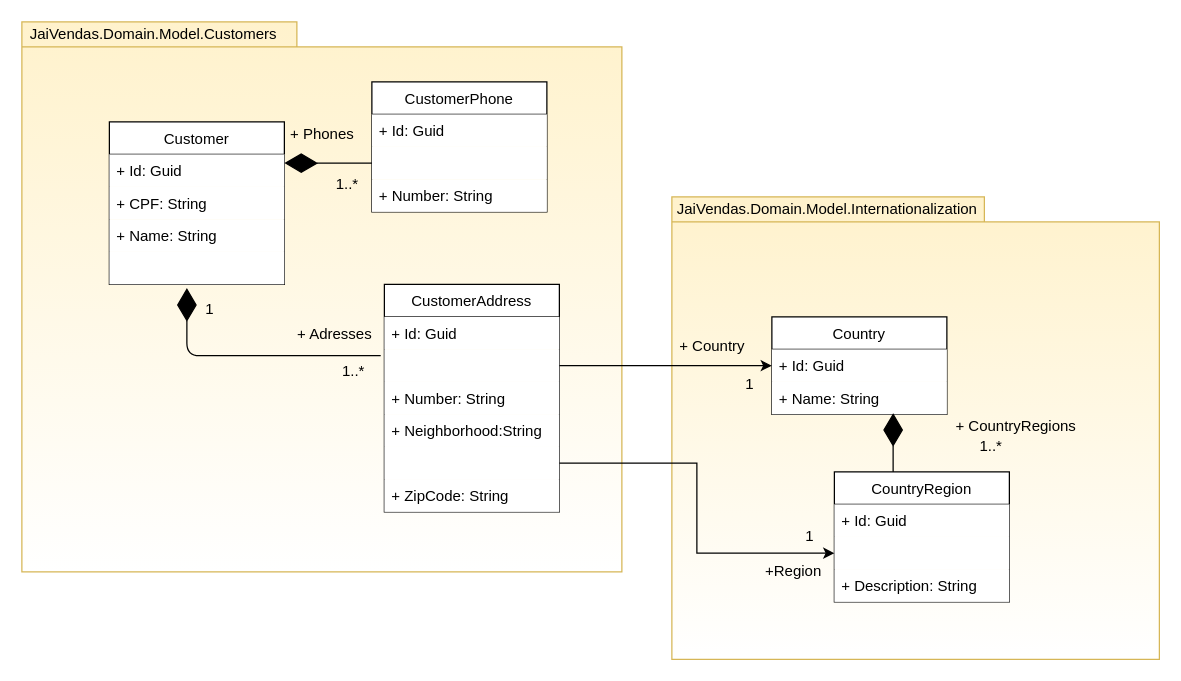
Image size: 1181x681. Some labels were removed from this diagram. Here are the shapes that lost their labels. From the top down, the centre of each, then its label:
(458,162): + Area: String
(196,267): + Active: bool
(471,365): + Street: String
(471,462): + City: String
(921,552): + Code: String
